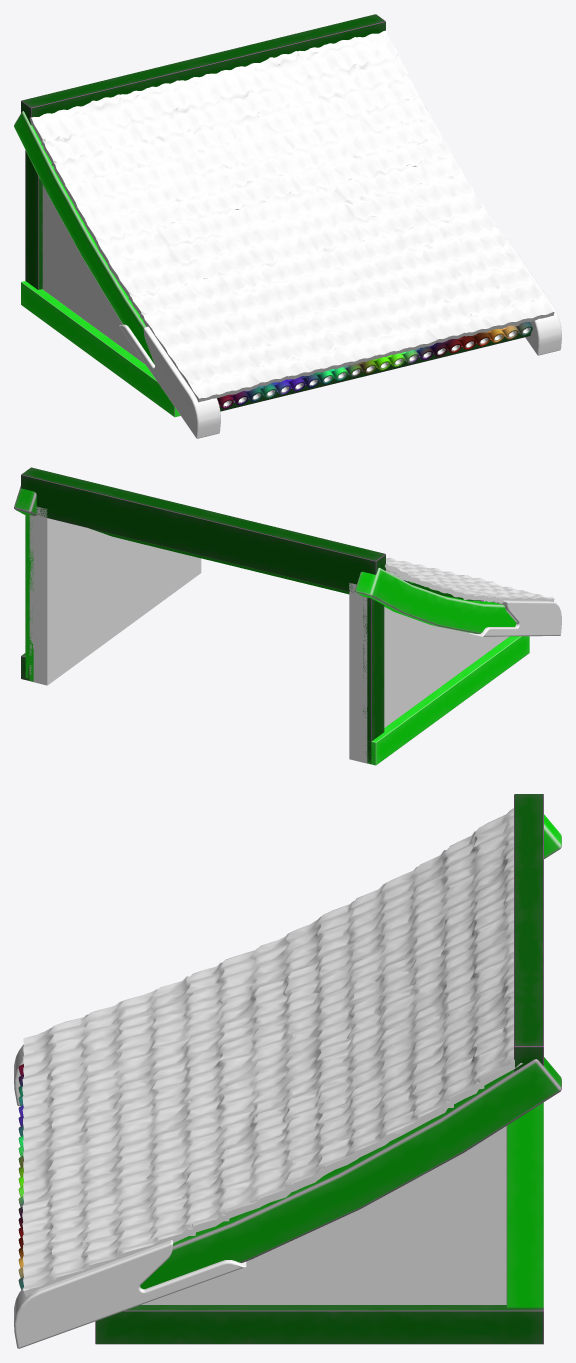
File: roof_standalone_400x300_01.fbx
3 renders of one model, top to bottom at view 1: azimuth 30°, elevation 25°; view 2: azimuth 150°, elevation 25°; view 3: azimuth 270°, elevation 25°, orthographic. The views are drawn at different scales.
Parts seen in each view (by area): view 1: roof_standalone_400x300_01; view 2: roof_standalone_400x300_01; view 3: roof_standalone_400x300_01.
Part boxes in pixels (<box>): roof_standalone_400x300_01: <box>14,14,561,438</box>; roof_standalone_400x300_01: <box>14,467,561,765</box>; roof_standalone_400x300_01: <box>14,794,561,1348</box>.
Bounding box in the file's own units: 4.11 × 2.21 × 3.66.
